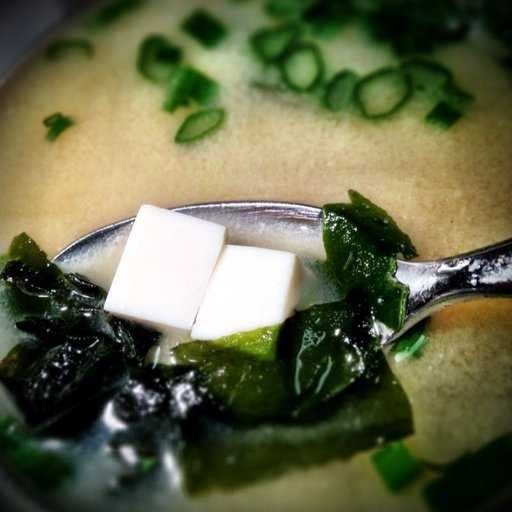soup: (7, 13, 502, 500)
